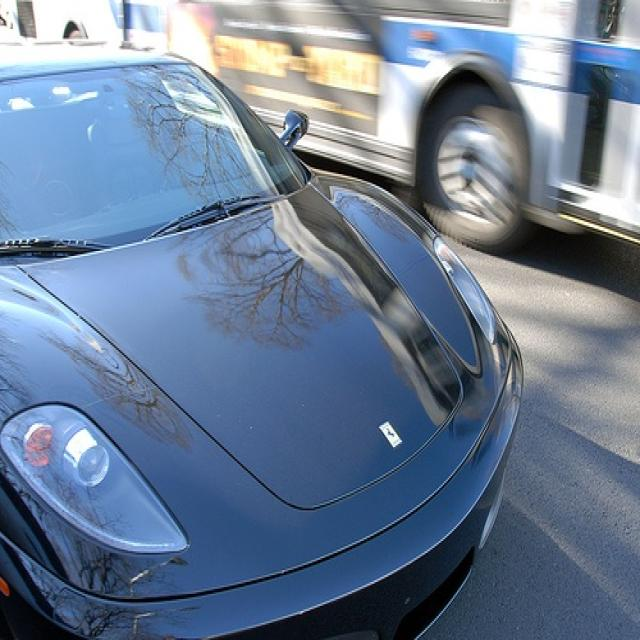bus: (0, 0, 638, 254)
car: (0, 48, 526, 638)
